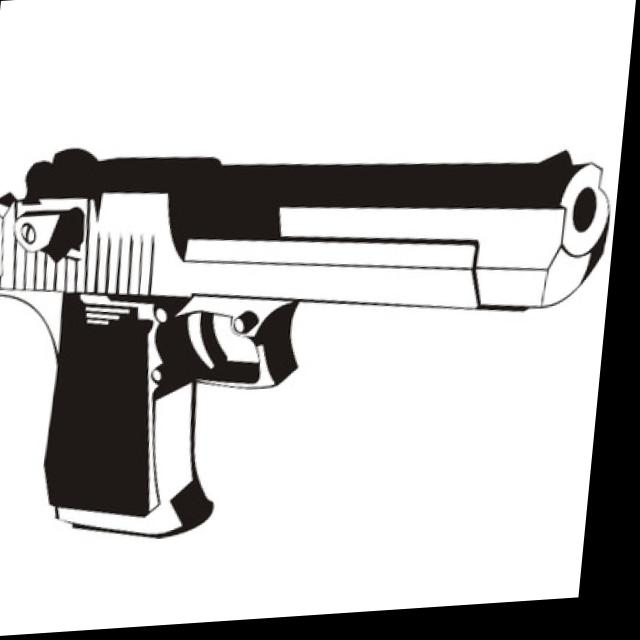handgun: (0, 92, 596, 542)
